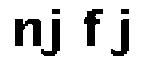f: (83, 6, 104, 50)
j: (104, 5, 134, 60), (43, 5, 65, 60)
n: (11, 16, 43, 49)
